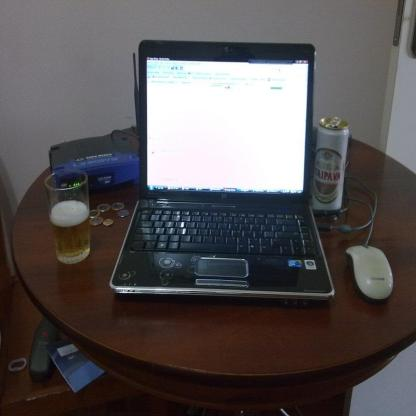board: (110, 39, 334, 297), (314, 116, 349, 212)
